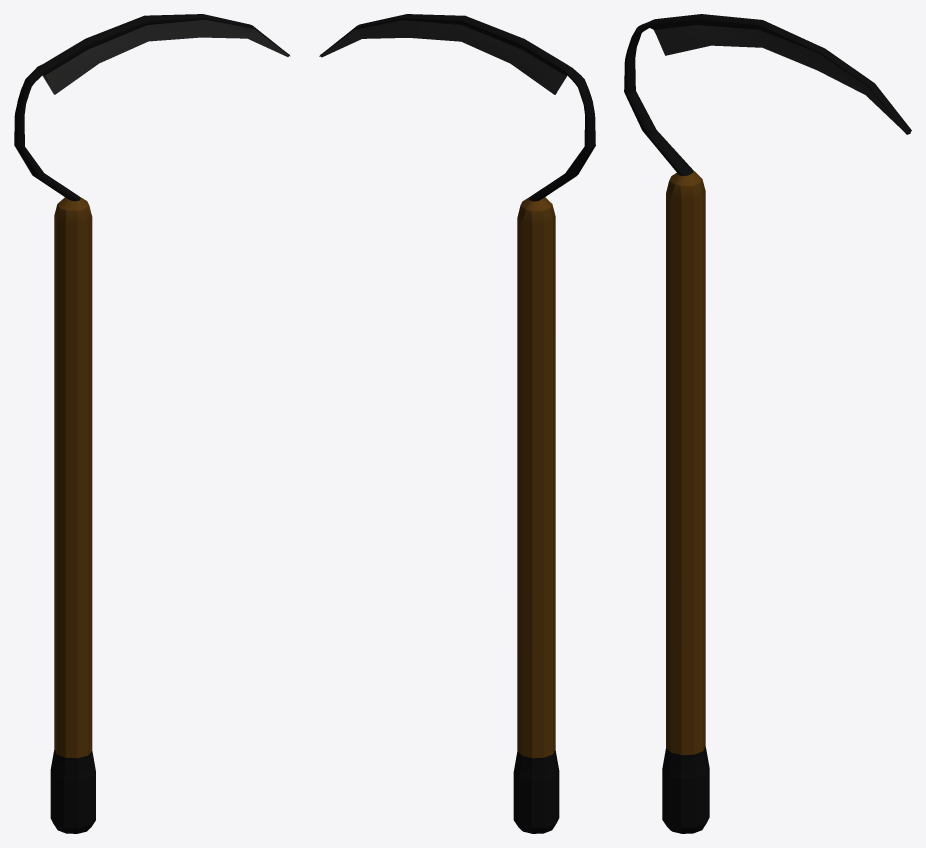
The model's file is Sickle_Standin.fbx.
3 renders of one model, left to right at view 1: azimuth 30°, elevation 25°; view 2: azimuth 150°, elevation 25°; view 3: azimuth 330°, elevation 25°, orthographic. The views are drawn at different scales.
Visible parts, largest first — view 1: pCylinder1; view 2: pCylinder1; view 3: pCylinder1.
Boxes of the visible parts, x1,y1,x2,y2 form: pCylinder1: (14,14,290,833); pCylinder1: (319,14,595,833); pCylinder1: (624,14,911,833).
Bounding box in the file's own units: 1.49 × 4.13 × 0.2057.
